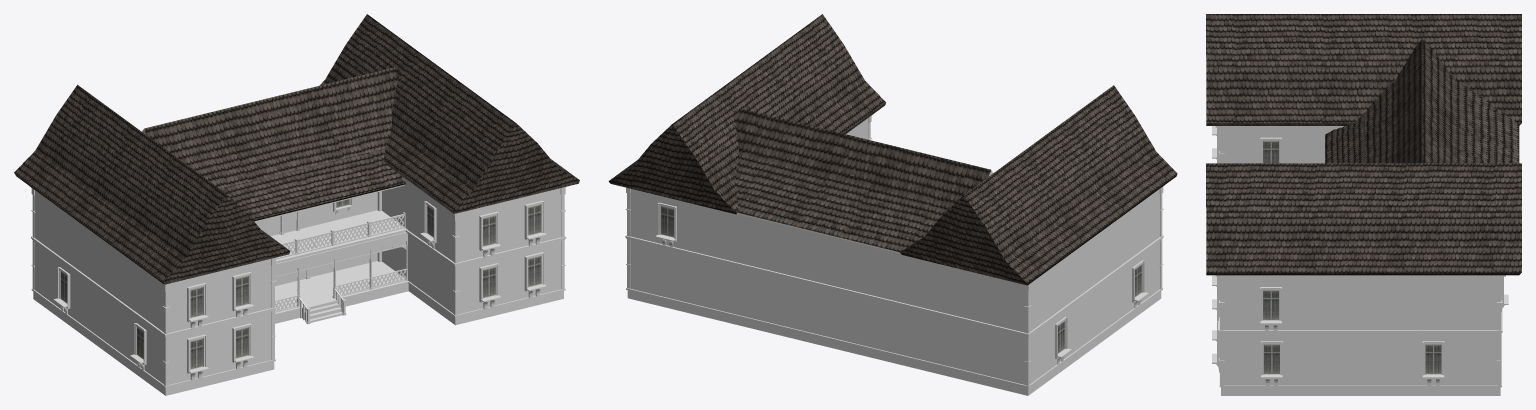
The model's file is Main_Building2.fbx.
3 renders of one model, left to right at view 1: azimuth 30°, elevation 25°; view 2: azimuth 150°, elevation 25°; view 3: azimuth 270°, elevation 25°, orthographic. The views are drawn at different scales.
Parts seen in each view (by area): view 1: Plane.026, Cube.038, Plane.039, Plane.044, Plane.040, Plane.248, Cube.022, Plane.035, Plane.029, Cube.023, Plane.032, Plane.061 (+2 smaller); view 2: Plane.026, Cube.038, Plane.064, Plane.049, Plane.061; view 3: Plane.026, Cube.038, Plane.061, Plane.049, Plane.063, Plane.249.
Boxes of the visible parts, bbox=[...] form: Plane.026: bbox=[14, 14, 579, 395]; Cube.038: bbox=[31, 187, 565, 385]; Plane.039: bbox=[232, 263, 501, 369]; Plane.044: bbox=[232, 211, 501, 317]; Plane.040: bbox=[187, 252, 546, 380]; Plane.248: bbox=[187, 200, 546, 328]; Cube.022: bbox=[275, 232, 407, 273]; Plane.035: bbox=[277, 216, 403, 257]; Plane.029: bbox=[275, 270, 405, 311]; Cube.023: bbox=[276, 214, 404, 259]; Plane.032: bbox=[275, 241, 406, 277]; Plane.061: bbox=[53, 267, 70, 314]; Plane.026: bbox=[608, 14, 1177, 395]; Cube.038: bbox=[625, 116, 1163, 385]; Plane.064: bbox=[655, 202, 676, 247]; Plane.049: bbox=[1132, 260, 1148, 308]; Plane.061: bbox=[1055, 317, 1071, 364]; Plane.026: bbox=[1206, 14, 1521, 395]; Cube.038: bbox=[1219, 129, 1502, 385]; Plane.061: bbox=[1422, 341, 1444, 385]; Plane.049: bbox=[1261, 341, 1282, 385]; Plane.063: bbox=[1260, 287, 1281, 330]; Plane.249: bbox=[1260, 137, 1281, 163].
Size of the model in its own units: 3448 by 1533 by 2144.
